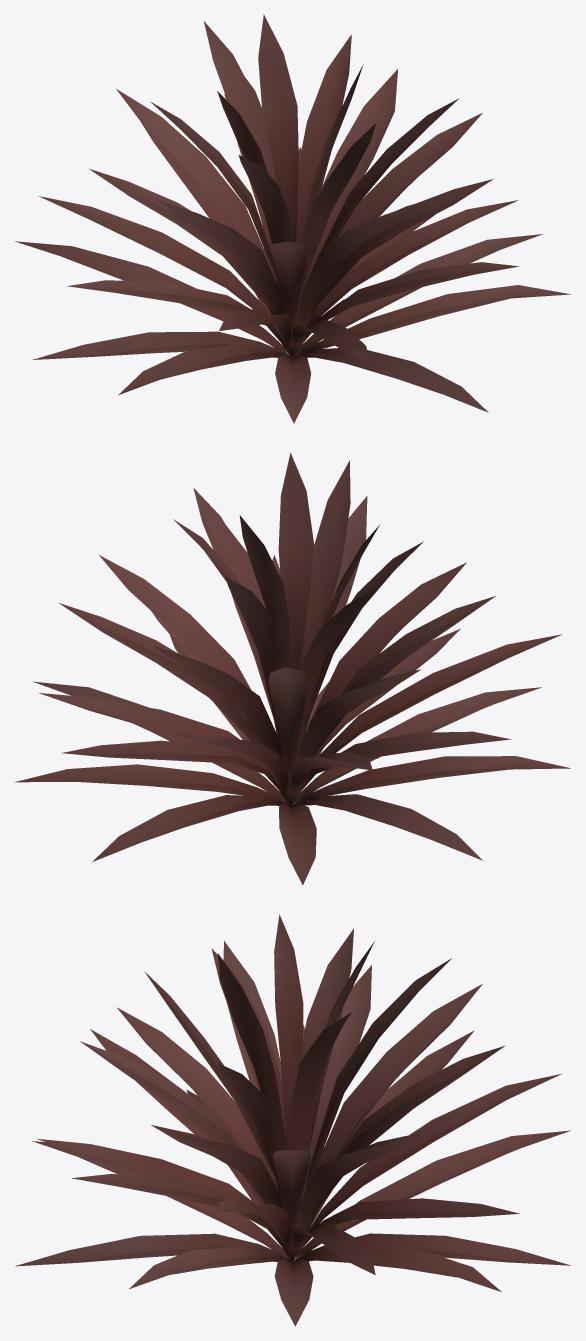
The model's file is plants-leafy-plants-red-spiky-plant_v3.fbx.
The picture shows the model from 3 angles, top to bottom: view 1: azimuth 30°, elevation 25°; view 2: azimuth 150°, elevation 25°; view 3: azimuth 270°, elevation 25°; orthographic projection. The views are drawn at different scales.
Parts seen in each view (by area): view 1: Red Spiky Plant_v3; view 2: Red Spiky Plant_v3; view 3: Red Spiky Plant_v3.
Boxes of the visible parts, bbox=[...] form: Red Spiky Plant_v3: bbox=[15, 14, 570, 423]; Red Spiky Plant_v3: bbox=[14, 452, 570, 885]; Red Spiky Plant_v3: bbox=[15, 914, 570, 1326].
Bounding box in the file's own units: 0.8 × 0.5807 × 0.7714.
